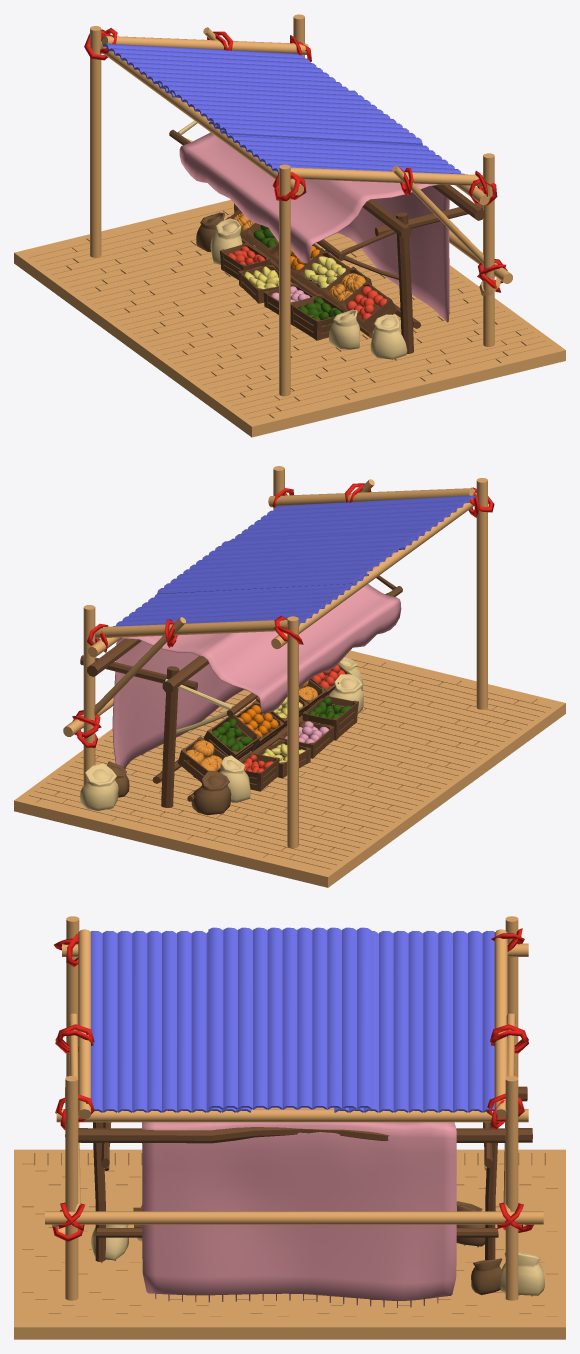
The model's file is Fruits.fbx.
3 views of the same model, one above another, from view 1: azimuth 30°, elevation 25°; view 2: azimuth 150°, elevation 25°; view 3: azimuth 270°, elevation 25° (orthographic). The views are drawn at different scales.
Parts seen in each view (by area): view 1: Cube.885; view 2: Cube.885; view 3: Cube.885.
Part boxes in pixels (bbox=[...]): Cube.885: bbox=[14, 14, 565, 437]; Cube.885: bbox=[14, 466, 565, 887]; Cube.885: bbox=[14, 916, 565, 1339].
Size of the model in its own units: 592 by 428 by 777.
